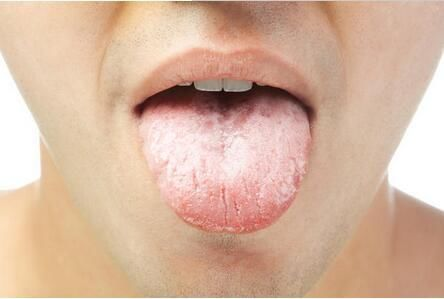baitaishe: (143, 90, 312, 234)
liewenshe: (221, 184, 240, 224)
